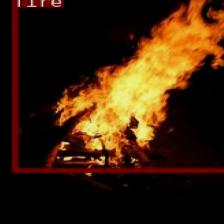fire: (11, 0, 224, 171)
